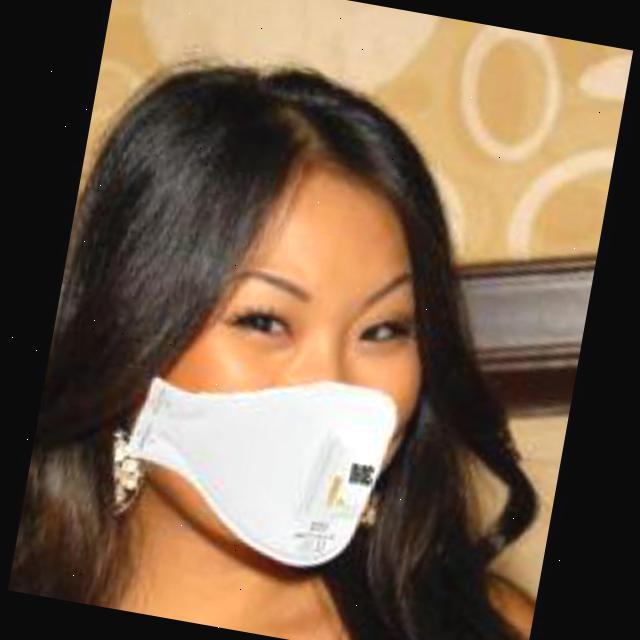suspicion: (77, 129, 467, 598)
